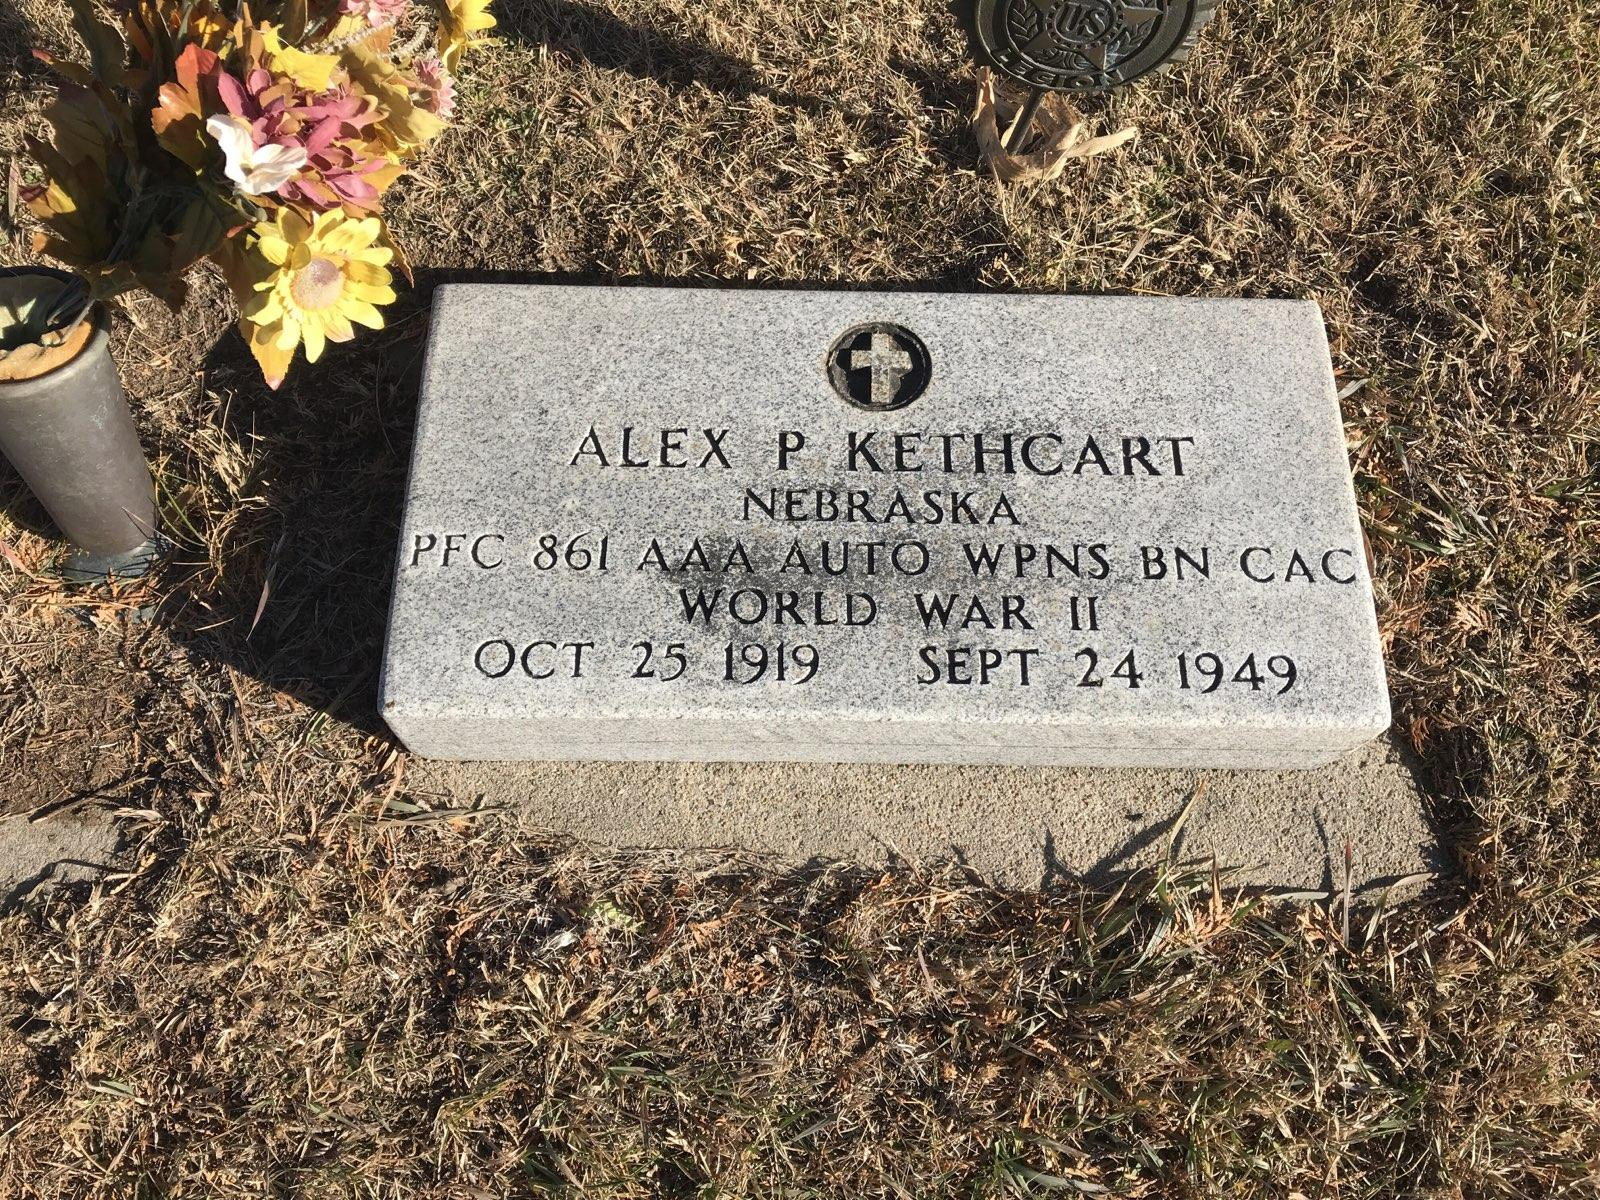flat: (375, 275, 1396, 756)
